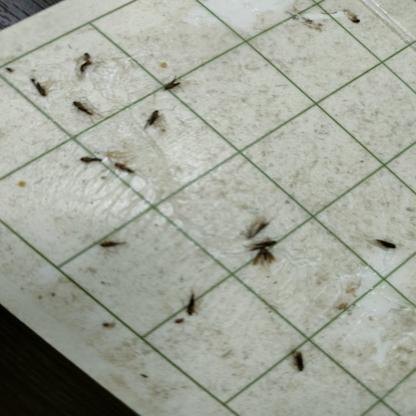prays_oleae: (240, 238, 285, 266), (290, 344, 317, 376), (143, 101, 168, 134), (110, 153, 139, 181), (374, 237, 406, 262), (78, 140, 101, 170), (26, 78, 52, 102), (243, 221, 272, 242), (162, 72, 184, 97), (74, 93, 95, 118), (182, 284, 200, 312), (97, 232, 122, 248)
